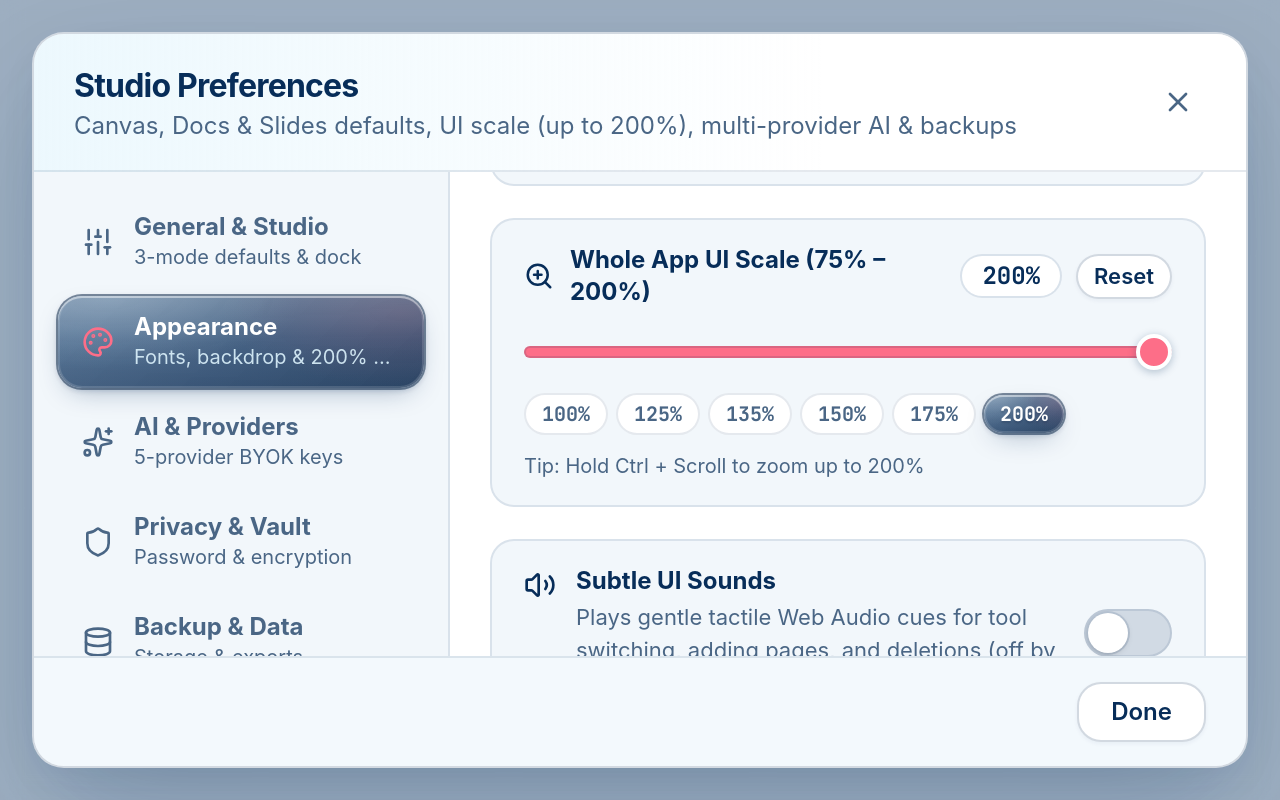
it: Folio Studio v2.1 Modernization: 200% Zoom, Framed PDF Covers, 3-Mode Templates & Studio Settings › allows Ctrl+Scroll on Home Shelf and Settings UI Scale controls to zoom smoothly up to 200%
(page scrolled)
Click the button with test id "settings-ui-scale-preset-175" at (934, 414), box [892,393,976,435]
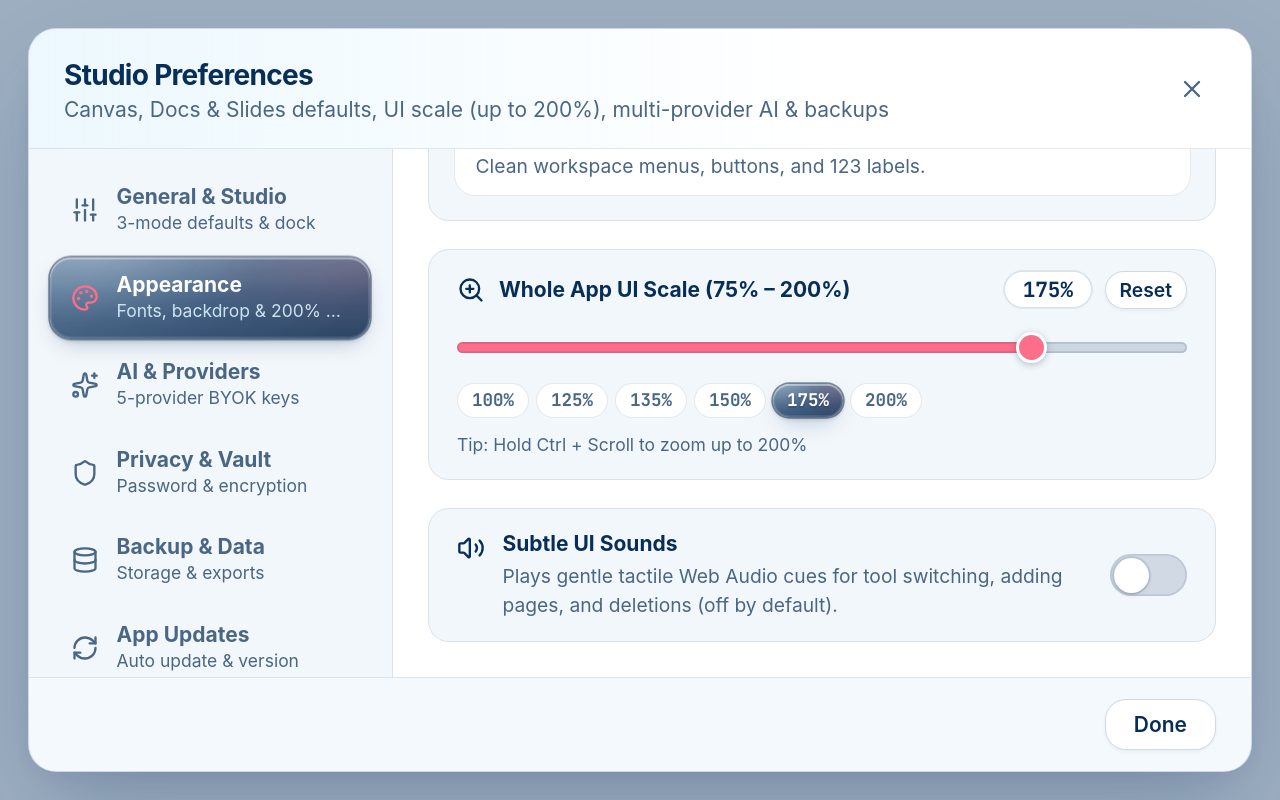
Now the text with test id "settings-ui-scale-value" reads "175%", box [1005,272,1090,307]
Click the button with test id "settings-ui-scale-preset-200" at (886, 401), box [850,383,922,418]
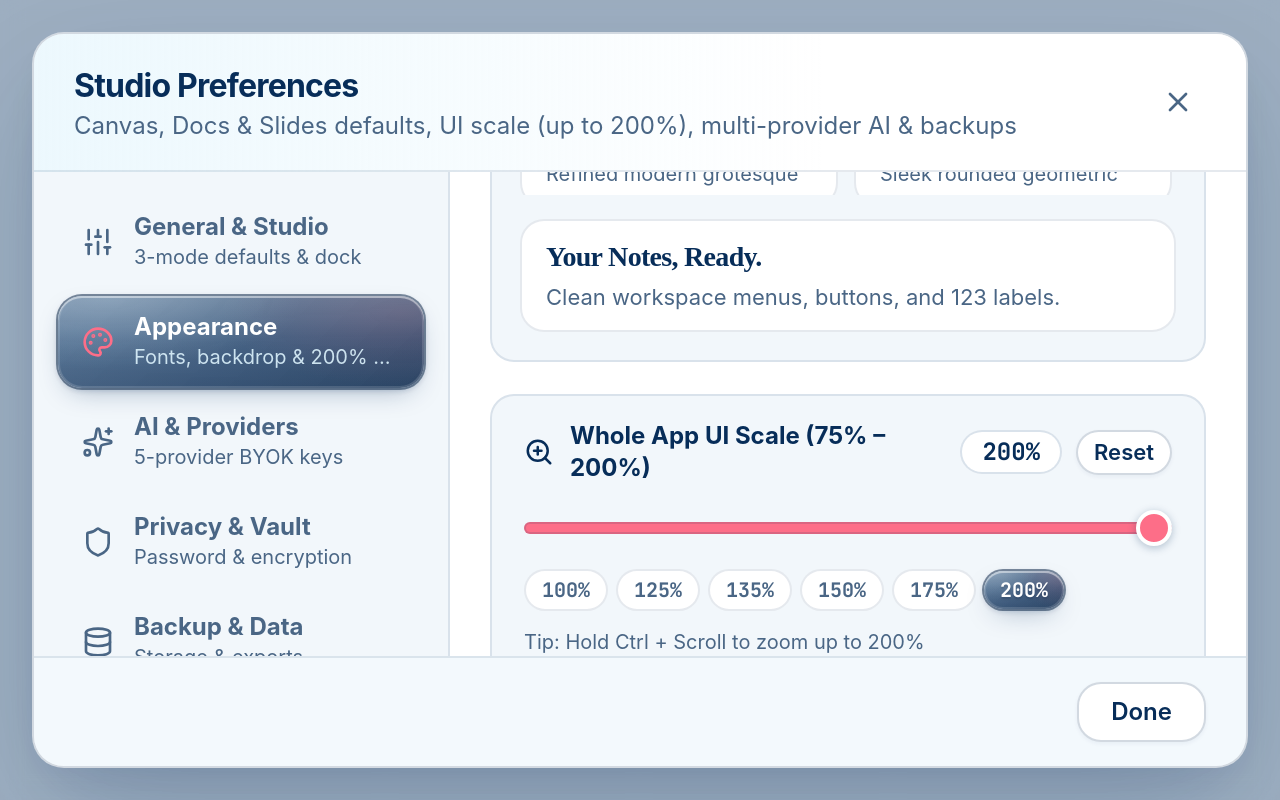
Now the text with test id "settings-ui-scale-value" reads "200%", box [962,432,1060,472]
